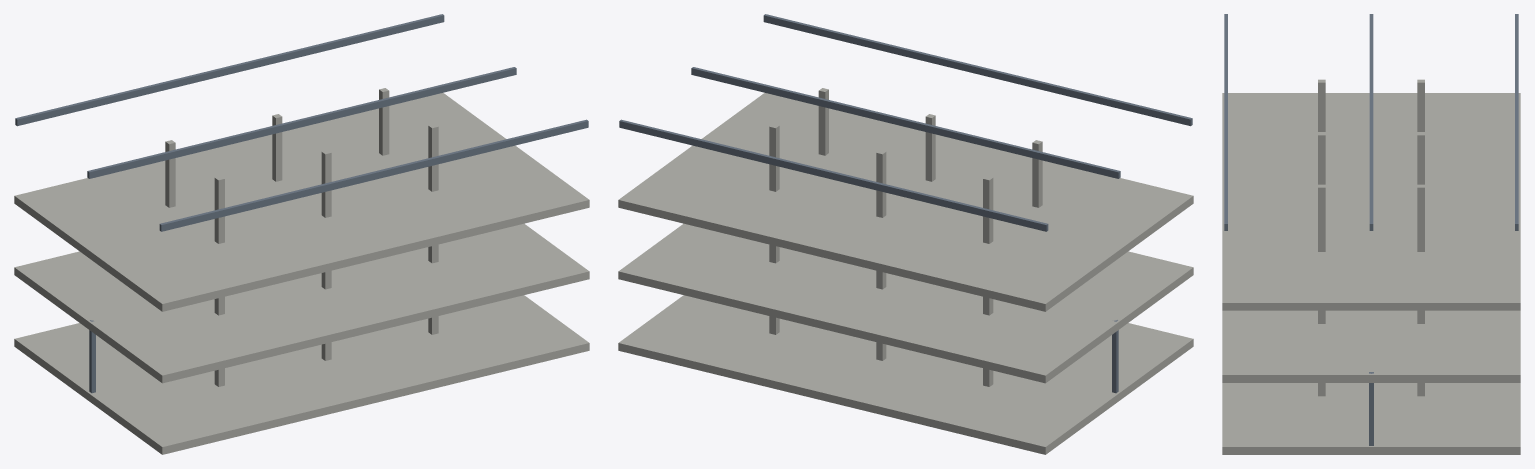
Rendered from Ejemplo_EST.dae.
3 renders of one model, left to right at view 1: azimuth 30°, elevation 25°; view 2: azimuth 150°, elevation 25°; view 3: azimuth 270°, elevation 25°, orthographic.
Parts seen in each view (by area): view 1: 310189, 310098, 310007, 310287, 310280, 310294, 310245, 310266, 310238, 310259, 310273, 310252; view 2: 310189, 310098, 310007, 310287, 310294, 310280, 310238, 310273, 310245, 310252, 310266, 310259; view 3: 310189, 310098, 310007, 310287, 310280, 310294, 310266, 310273, 310238, 310245, 310252, 310259 (+1 smaller).
Boxes of the visible parts, x1,y1,x2,y2 form: 310189: (14, 93, 589, 311); 310098: (14, 223, 589, 383); 310007: (14, 295, 589, 454); 310287: (87, 67, 516, 178); 310280: (159, 119, 588, 231); 310294: (15, 14, 444, 126); 310245: (165, 140, 175, 207); 310266: (428, 124, 438, 191); 310238: (214, 176, 224, 243); 310259: (272, 114, 282, 181); 310273: (379, 88, 389, 155); 310252: (321, 150, 331, 217); 310189: (618, 93, 1193, 311); 310098: (618, 223, 1193, 383); 310007: (618, 295, 1193, 454); 310287: (691, 67, 1120, 178); 310294: (619, 119, 1048, 231); 310280: (763, 14, 1192, 126); 310238: (1032, 140, 1042, 207); 310273: (769, 124, 779, 191); 310245: (983, 176, 993, 243); 310252: (925, 114, 935, 181); 310266: (818, 88, 828, 155); 310259: (876, 150, 886, 217); 310189: (1222, 93, 1520, 310); 310098: (1222, 310, 1520, 382); 310007: (1222, 383, 1520, 454); 310287: (1369, 14, 1373, 230); 310280: (1224, 14, 1227, 230); 310294: (1515, 14, 1518, 230); 310266: (1318, 184, 1325, 251); 310273: (1417, 184, 1424, 251); 310238: (1318, 79, 1325, 131); 310245: (1417, 79, 1424, 131); 310252: (1318, 132, 1325, 184); 310259: (1417, 132, 1424, 184).
Size of the model in its own units: 20 by 12 by 10.25.
